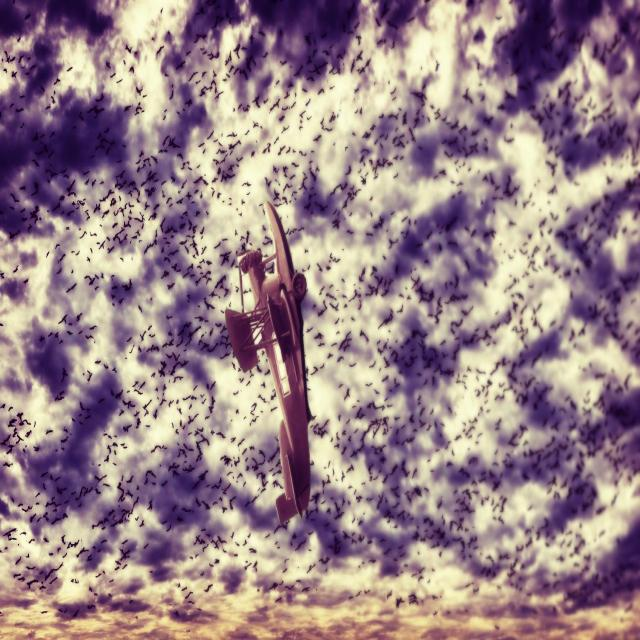airplane: (224, 199, 312, 525)
